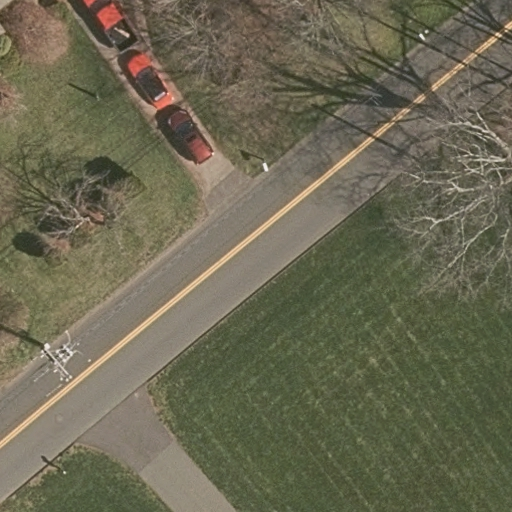DT: (28, 320, 83, 386)
